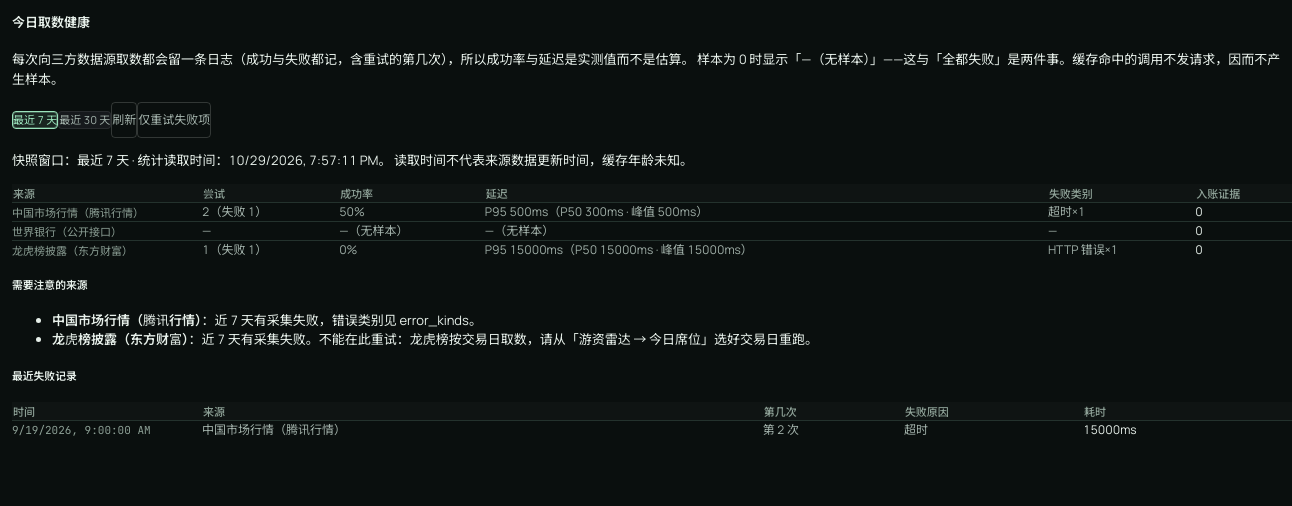
it: F02/F03 今日取数健康 › 「仅重试失败项」只发 only_failed 请求，并回显逐源结果
Click the button "仅重试失败项".
click(174, 120)  # box x1=137 y1=102 x2=211 y2=138
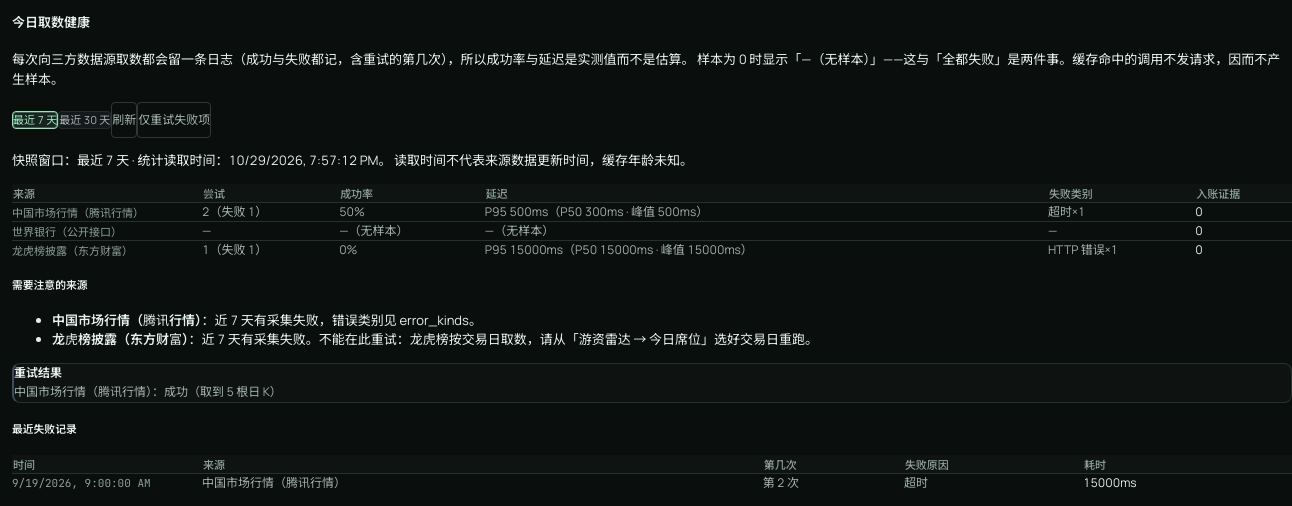
Now the list item "中国市场行情（腾讯行情）：成功（取到 5 根日 K）" is shown, box x1=14 y1=383 x2=282 y2=400
